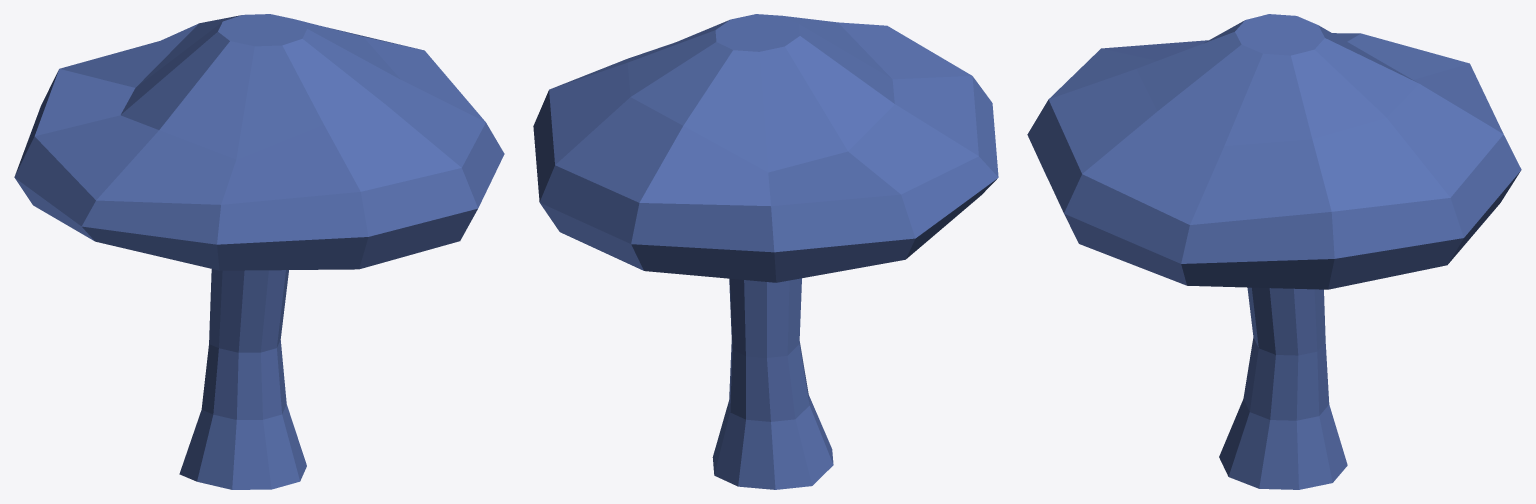
File: mushroom-plant.fbx
3 renders of one model, left to right at view 1: azimuth 30°, elevation 25°; view 2: azimuth 150°, elevation 25°; view 3: azimuth 270°, elevation 25°, orthographic. The views are drawn at different scales.
Visible parts, largest first — view 1: mushroom original.002; view 2: mushroom original.002; view 3: mushroom original.002.
Part boxes in pixels (<box>): mushroom original.002: <box>14,14,504,489</box>; mushroom original.002: <box>533,14,998,489</box>; mushroom original.002: <box>1027,14,1521,489</box>.
Bounding box in the file's own units: 80.6 × 81.6 × 82.72.
